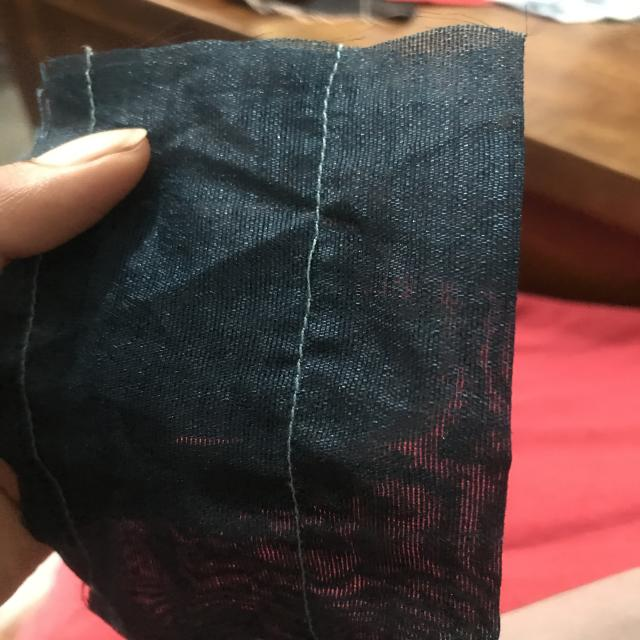good: (283, 316, 312, 420), (311, 114, 342, 203)
skip: (300, 230, 332, 300)
